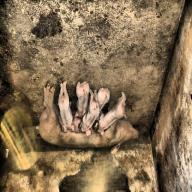boar: (35, 82, 139, 154)
